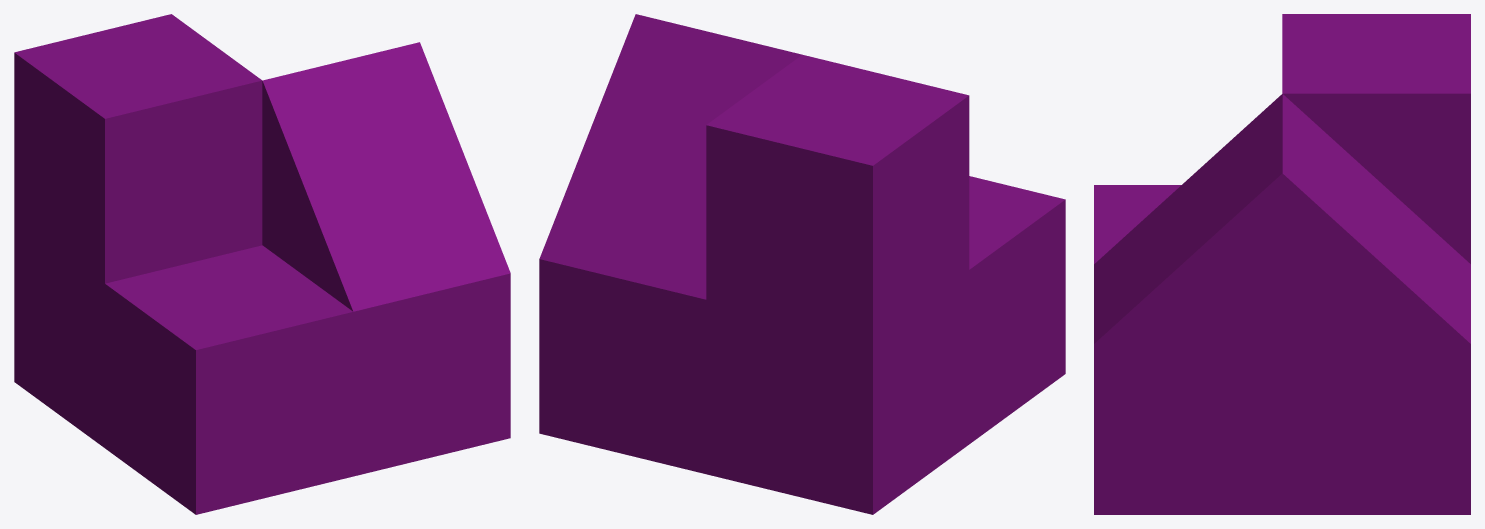
The model's file is Pieza-E.glb.
3 renders of one model, left to right at view 1: azimuth 30°, elevation 25°; view 2: azimuth 150°, elevation 25°; view 3: azimuth 270°, elevation 25°, orthographic. The views are drawn at different scales.
Parts seen in each view (by area): view 1: Pieza-E.stl; view 2: Pieza-E.stl; view 3: Pieza-E.stl.
Boxes of the visible parts, left/top/right/bottom form: Pieza-E.stl: left=14, top=14, right=510, bottom=514; Pieza-E.stl: left=539, top=14, right=1065, bottom=514; Pieza-E.stl: left=1094, top=14, right=1470, bottom=514.
Size of the model in its own units: 4 by 4 by 4.
